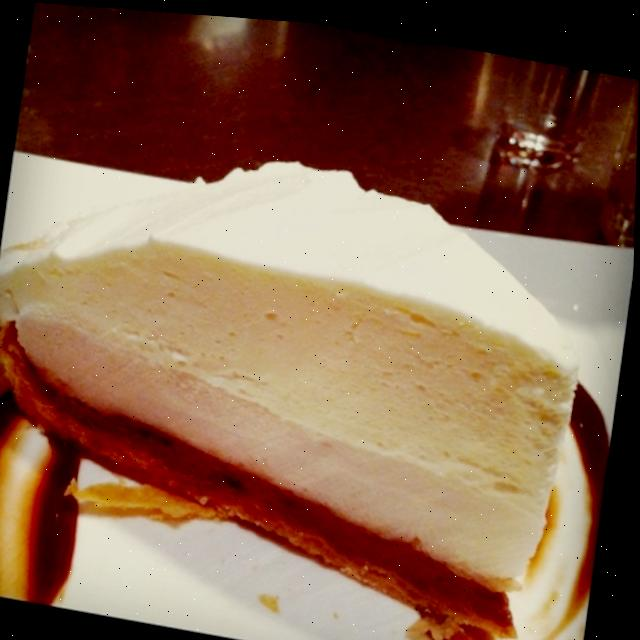蛋糕甜品: (0, 50, 622, 640)
